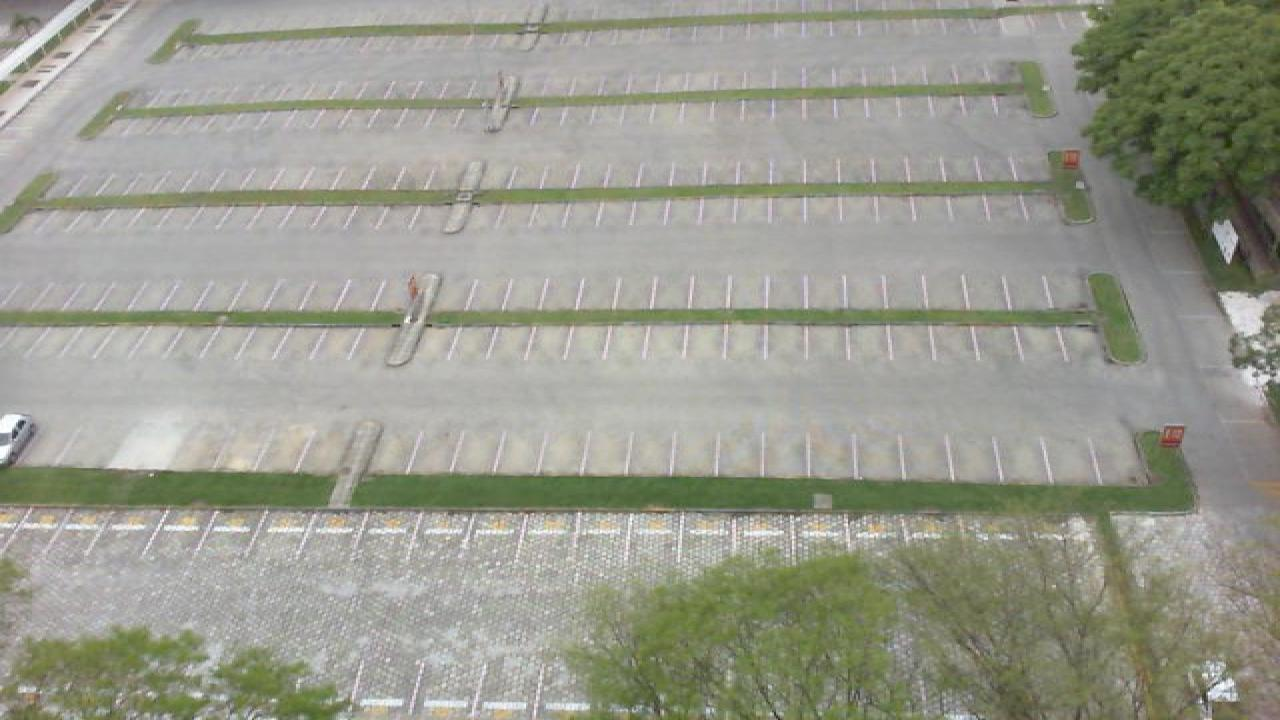Car: (0, 413, 34, 468)
